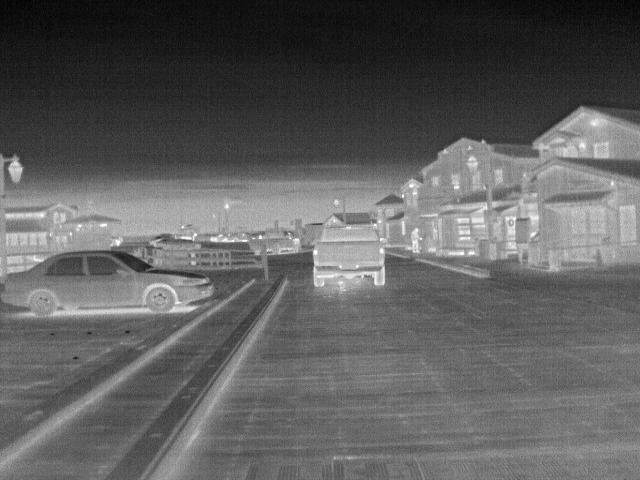car: (1, 248, 215, 316), (311, 223, 388, 288), (248, 229, 302, 256), (148, 236, 206, 248)
person: (408, 228, 422, 256)
